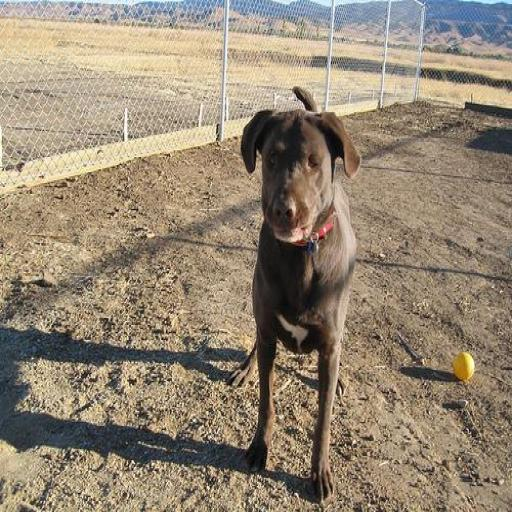dog_face: (236, 103, 362, 248)
